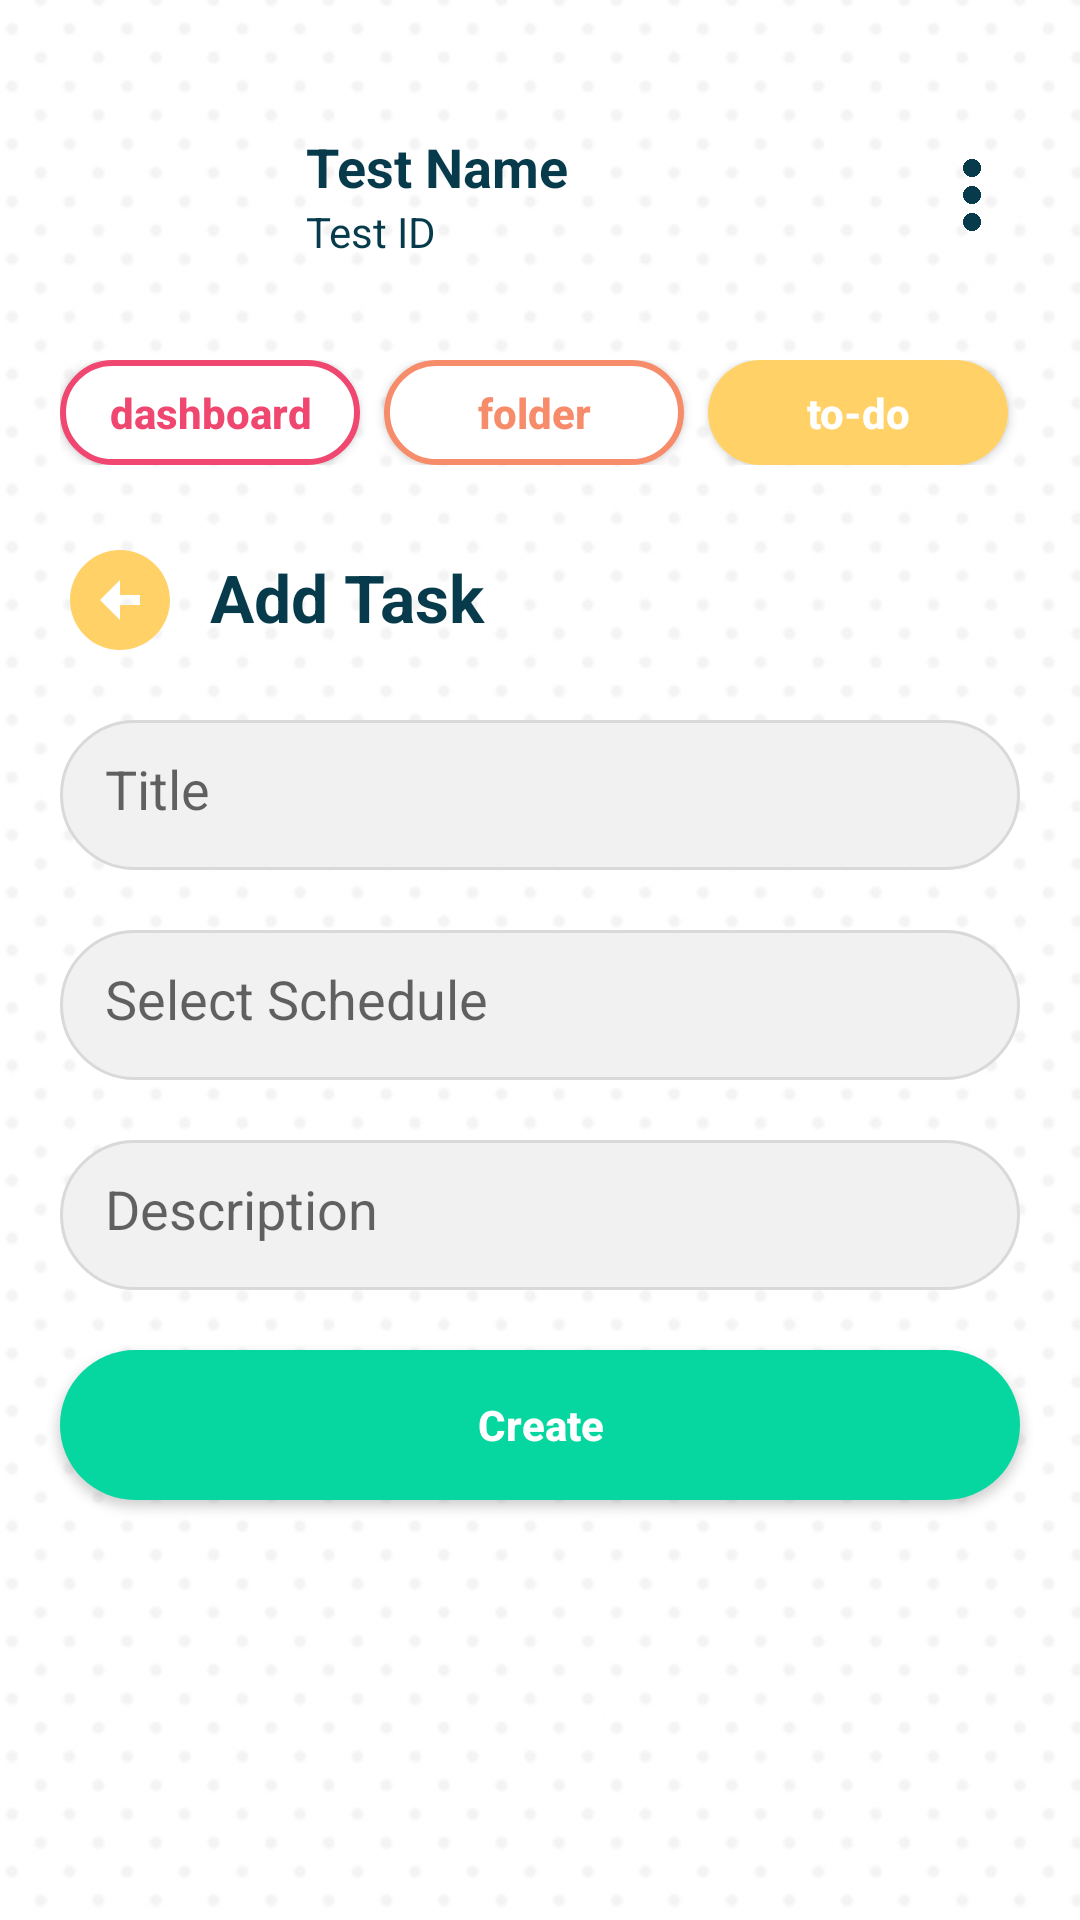

Icon click points for this 1080x1920 phone screenshot, format point (x, y):
More Settings: point (972, 195)
